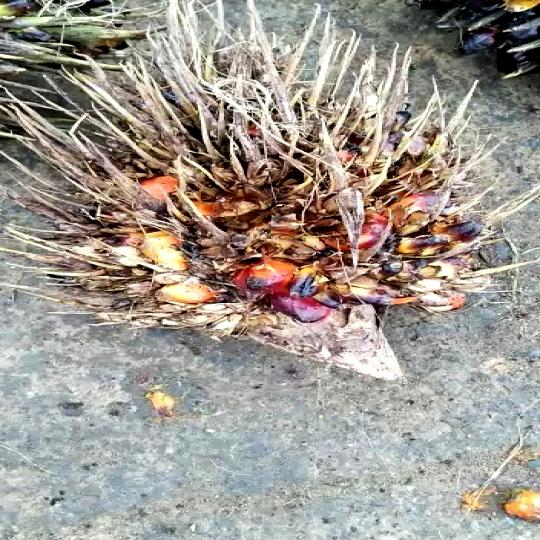terlalu masak: (0, 0, 540, 369)
